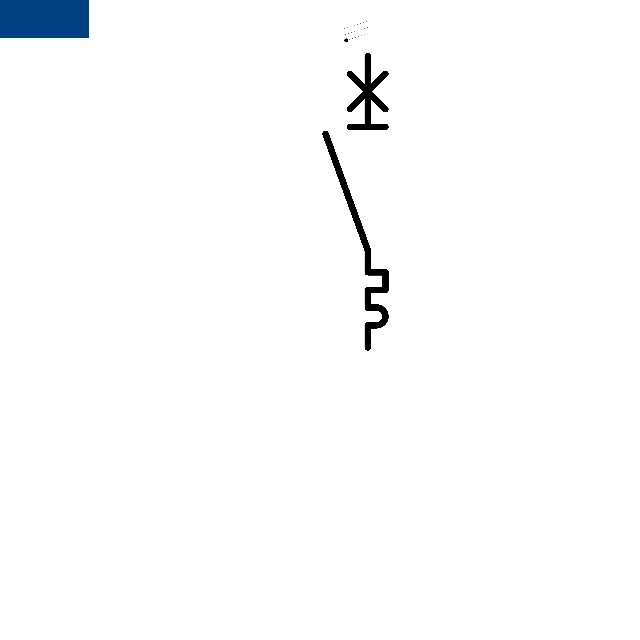interruptor_termomagnetico: (318, 48, 393, 355)
